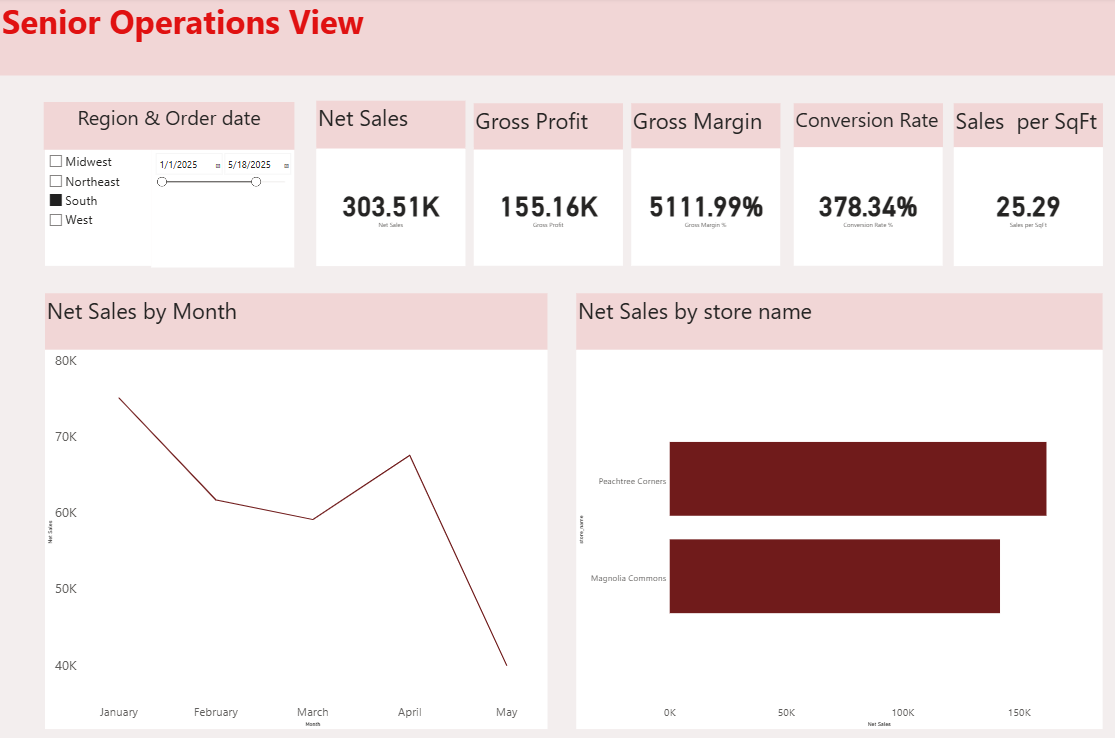

Layout of this report page (visuals, bound fields, positions):
{"tool":"powerbi","page":{"name":"Senior Operations View","canvas":[3000,2000],"ordinal":2},"visuals":[{"type":"card","fields":{"Values":["daily_foot_traffic.Net Sales"]},"box":[846.6,403.1,399.8,319.1],"z":0},{"type":"card","fields":{"Values":["daily_foot_traffic.Gross Profit"]},"box":[1269.9,403.1,399.8,318],"z":1000},{"type":"card","fields":{"Values":["daily_foot_traffic.Gross Margin %"]},"box":[1693.2,403.1,399,318],"z":2000},{"type":"card","fields":{"Values":["daily_foot_traffic.Conversion Rate %"]},"box":[2126.5,403.1,399,318],"z":3000},{"type":"card","fields":{"Values":["daily_foot_traffic.Sales per SqFt"]},"box":[2556.6,403.1,399.8,319.1],"z":4000},{"type":"clusteredBarChart","fields":{"Category":["stores.store_name"],"Y":["daily_foot_traffic.Net Sales"]},"box":[1545.4,944,1411,1017.9],"z":5000},{"type":"lineChart","fields":{"Category":["transactions.order_date.Variation.Date Hierarchy.Month"],"Y":["daily_foot_traffic.Net Sales"]},"box":[120.9,944,1347.1,1017.9],"z":6000},{"type":"slicer","fields":{"Values":["stores.region"]},"box":[121.3,410,285.9,311.8],"z":7000},{"type":"slicer","fields":{"Values":["transactions.order_date"]},"box":[407.1,410,381.1,314.7],"z":8000},{"type":"textbox","box":[0,0,3000,210],"z":9000},{"type":"textbox","box":[117.6,282.2,671.9,127.7],"z":10000},{"type":"textbox","box":[846.6,278.8,399.8,127.7],"z":11000},{"type":"textbox","box":[1269.9,285.6,399.8,124.3],"z":12000},{"type":"textbox","box":[1693.2,285.6,399.8,120.9],"z":13000},{"type":"textbox","box":[2126.5,285.6,399.8,117.6],"z":14000},{"type":"textbox","box":[2556.6,285.6,399.8,117.6],"z":15000},{"type":"textbox","box":[120.9,792.8,1347.1,151.2],"z":16000},{"type":"textbox","box":[1545.4,792.8,1411,151.2],"z":17000}]}

Visuals, with their boxes in screenshot pixels (x1, y1, x2, y2), scaled from the page's 3000x2000 canvas onto the 1115x738 screenshot:
card - daily_foot_traffic.Net Sales: (x1=315, y1=149, x2=463, y2=266)
card - daily_foot_traffic.Gross Profit: (x1=472, y1=149, x2=621, y2=266)
card - daily_foot_traffic.Gross Margin %: (x1=629, y1=149, x2=778, y2=266)
card - daily_foot_traffic.Conversion Rate %: (x1=790, y1=149, x2=939, y2=266)
card - daily_foot_traffic.Sales per SqFt: (x1=950, y1=149, x2=1099, y2=266)
clusteredBarChart - stores.store_name x daily_foot_traffic.Net Sales: (x1=574, y1=348, x2=1099, y2=724)
lineChart - transactions.order_date.Variation.Date Hierarchy.Month x daily_foot_traffic.Net Sales: (x1=45, y1=348, x2=546, y2=724)
slicer - stores.region: (x1=45, y1=151, x2=151, y2=266)
slicer - transactions.order_date: (x1=151, y1=151, x2=293, y2=267)
textbox: (x1=0, y1=0, x2=1114, y2=77)
textbox: (x1=44, y1=104, x2=293, y2=151)
textbox: (x1=315, y1=103, x2=463, y2=150)
textbox: (x1=472, y1=105, x2=621, y2=151)
textbox: (x1=629, y1=105, x2=778, y2=150)
textbox: (x1=790, y1=105, x2=939, y2=149)
textbox: (x1=950, y1=105, x2=1099, y2=149)
textbox: (x1=45, y1=293, x2=546, y2=348)
textbox: (x1=574, y1=293, x2=1099, y2=348)
